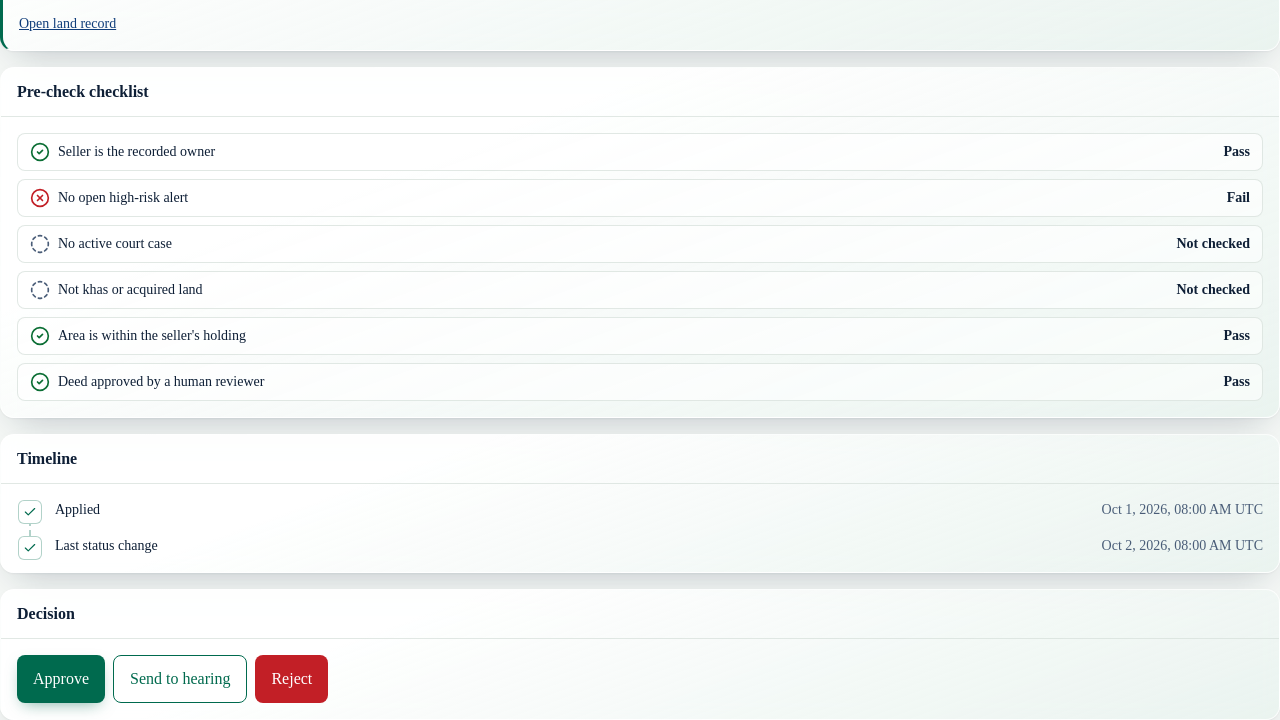
Test: MutationDetail › send to hearing opens the reason modal
(page scrolled)
Click the button with test id "act-HEARING".
click(180, 679)  # box [113,655,247,703]
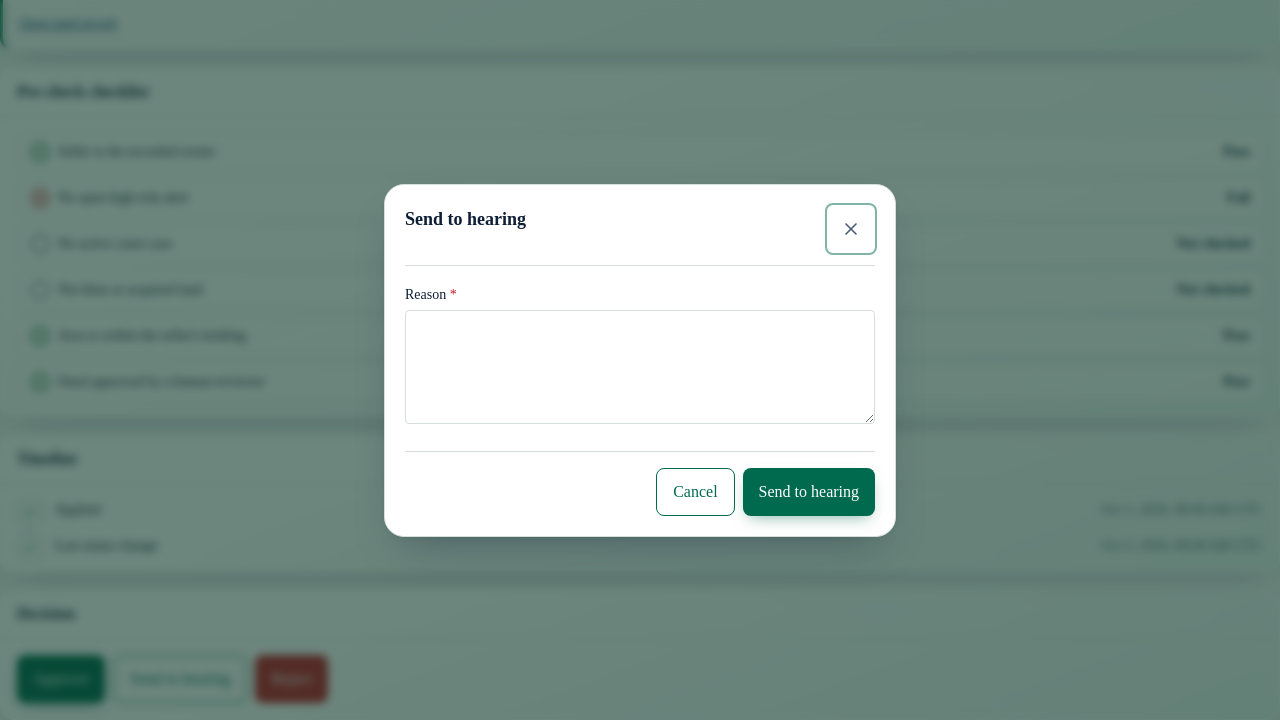
Expected: the dialog is shown, [384,184,896,536]
